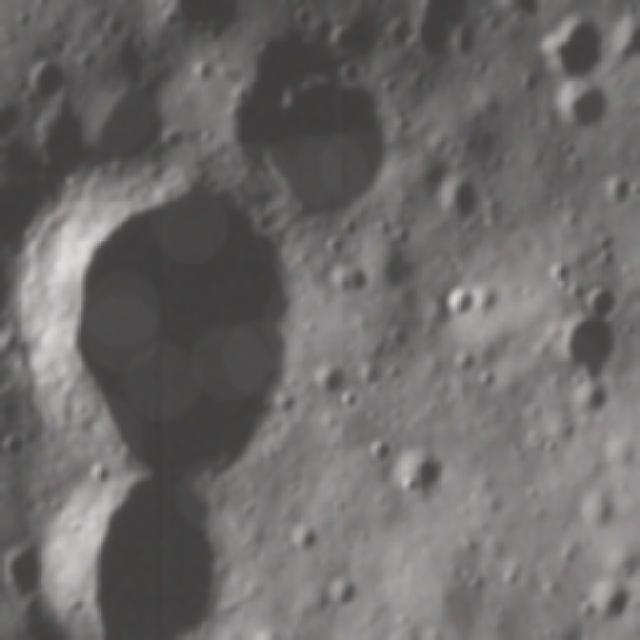crater: (14, 168, 312, 480), (43, 474, 249, 638), (248, 68, 415, 214), (539, 302, 632, 391), (79, 82, 167, 168), (17, 102, 103, 182), (530, 9, 612, 86), (550, 79, 619, 146), (387, 438, 450, 511), (3, 533, 55, 604), (431, 170, 484, 227), (586, 579, 636, 635), (20, 57, 71, 108), (437, 278, 483, 329), (573, 281, 621, 325), (326, 260, 376, 300), (278, 518, 327, 558), (578, 490, 620, 532), (320, 569, 362, 609), (352, 354, 390, 395), (600, 172, 638, 210), (544, 256, 581, 295), (185, 54, 220, 92), (312, 364, 350, 399), (592, 232, 625, 272), (358, 438, 399, 469), (331, 387, 366, 419), (95, 14, 132, 41), (288, 5, 315, 29)
